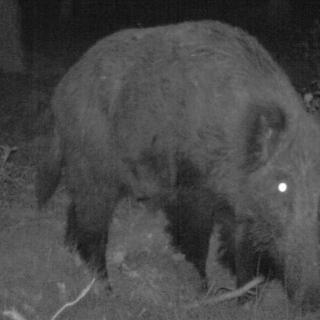Pig: (34, 20, 320, 319)
